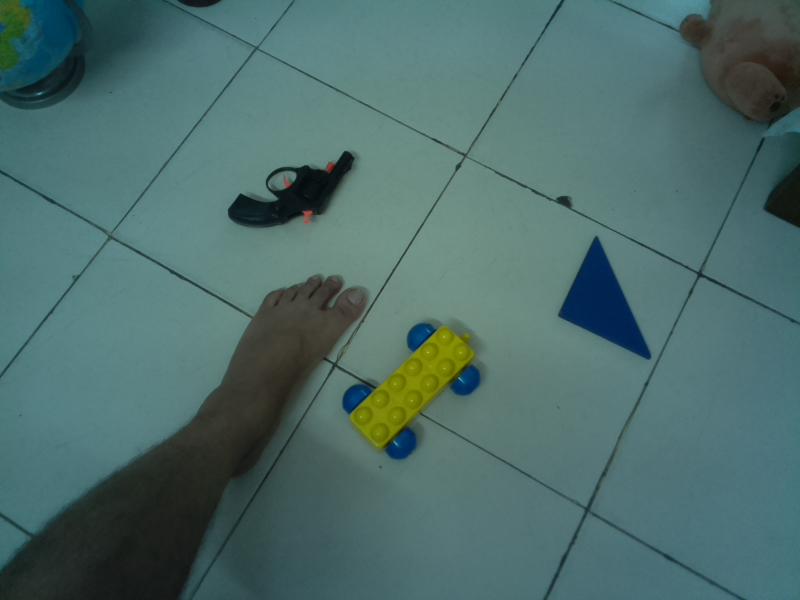Gun: (227, 149, 358, 232)
Triangle: (555, 233, 654, 365)
toy_Car: (338, 318, 484, 462)
